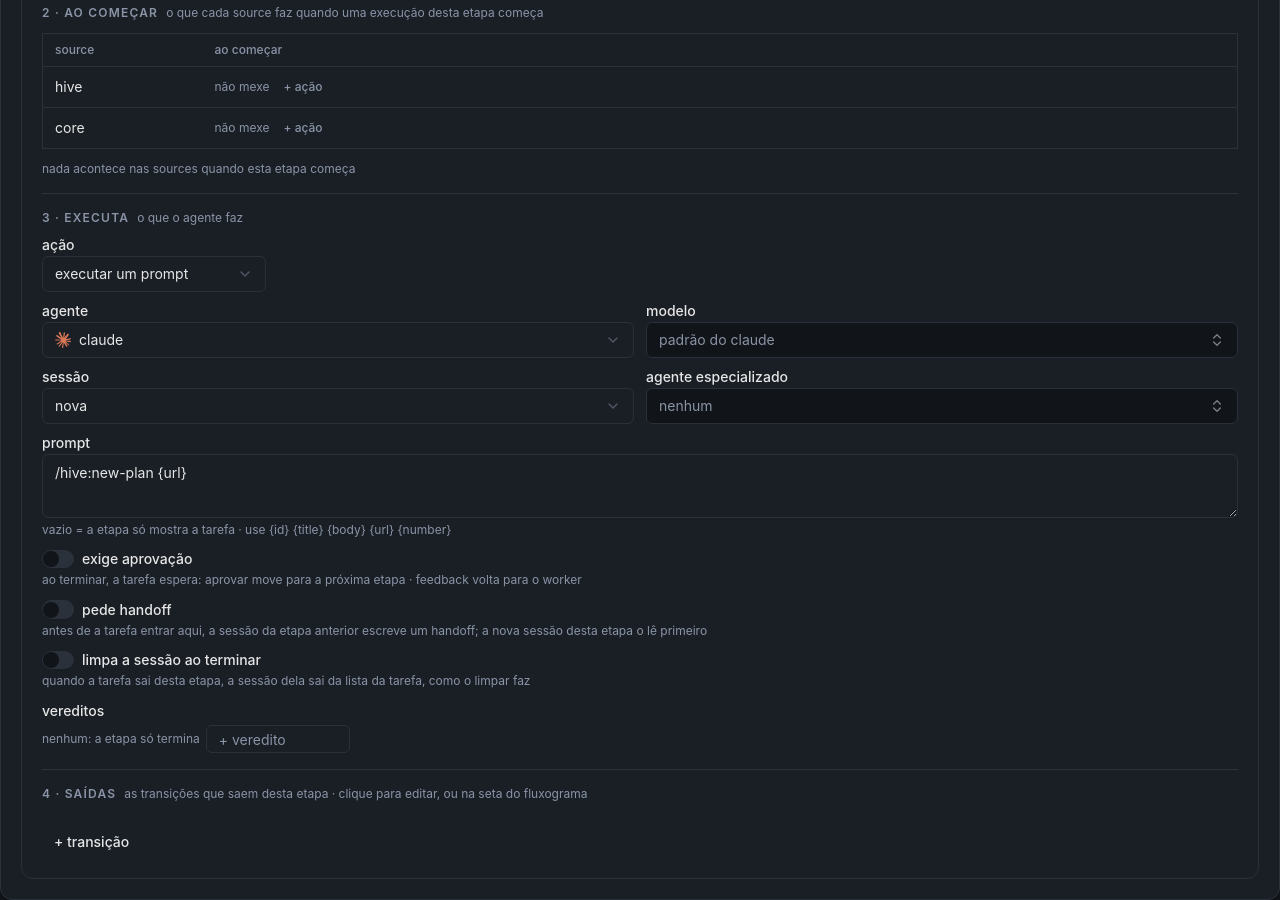
Test: executa: the handoff switch on a prompt stage, disabled with its own hint while the session continues (#692)
(page scrolled)
Expected: the text "antes de a tarefa entrar aqui, a sessão da etapa anterior escreve um handoff; a nova sessão desta etapa o lê primeiro" is shown, [42, 623, 707, 638]
Click the switch named "pede handoff" next to "pede handoff" at (58, 610), box [42, 600, 74, 619]
(page scrolled)
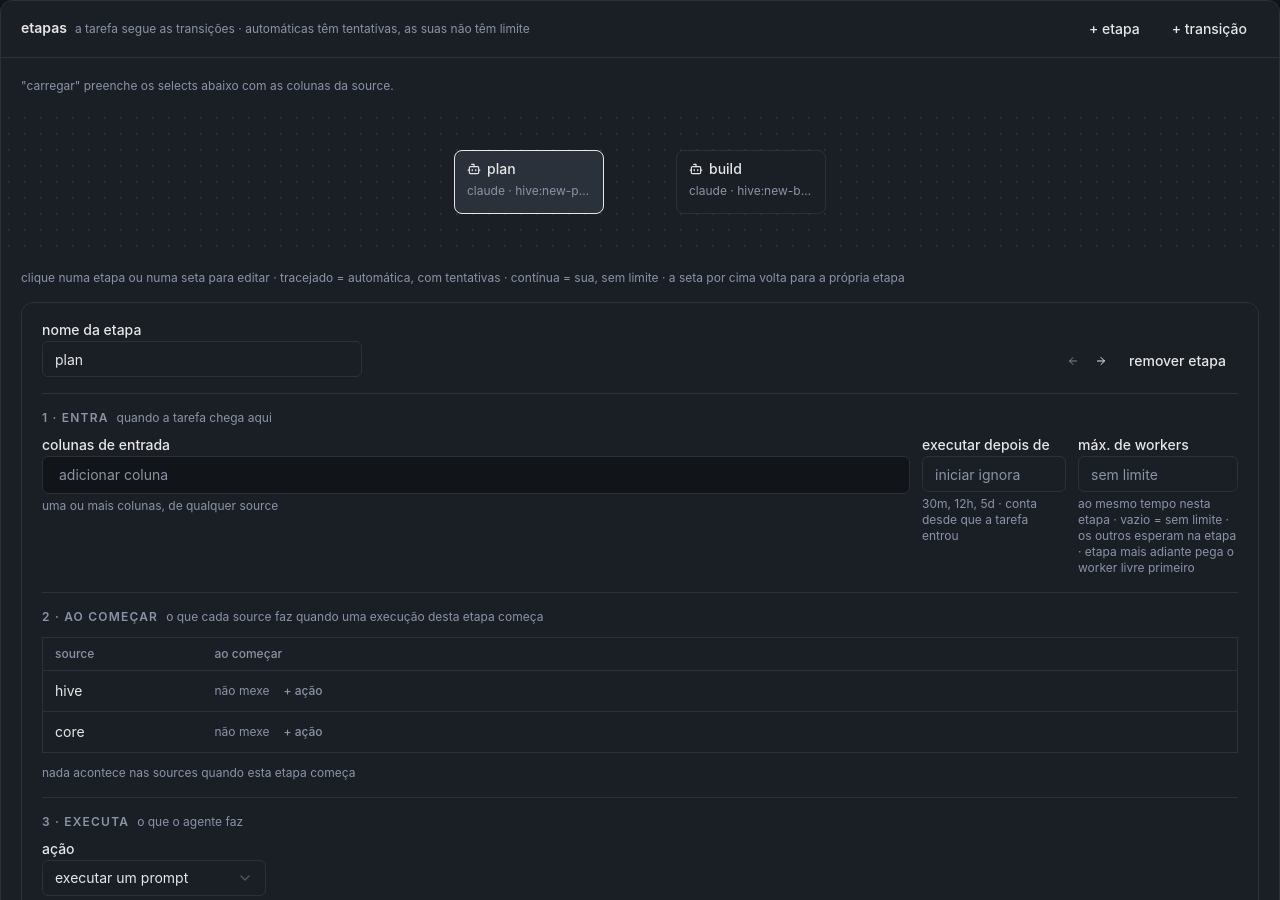
Click the button "build claude · hive:new-build" at (751, 182), box [676, 150, 826, 214]
(page scrolled)
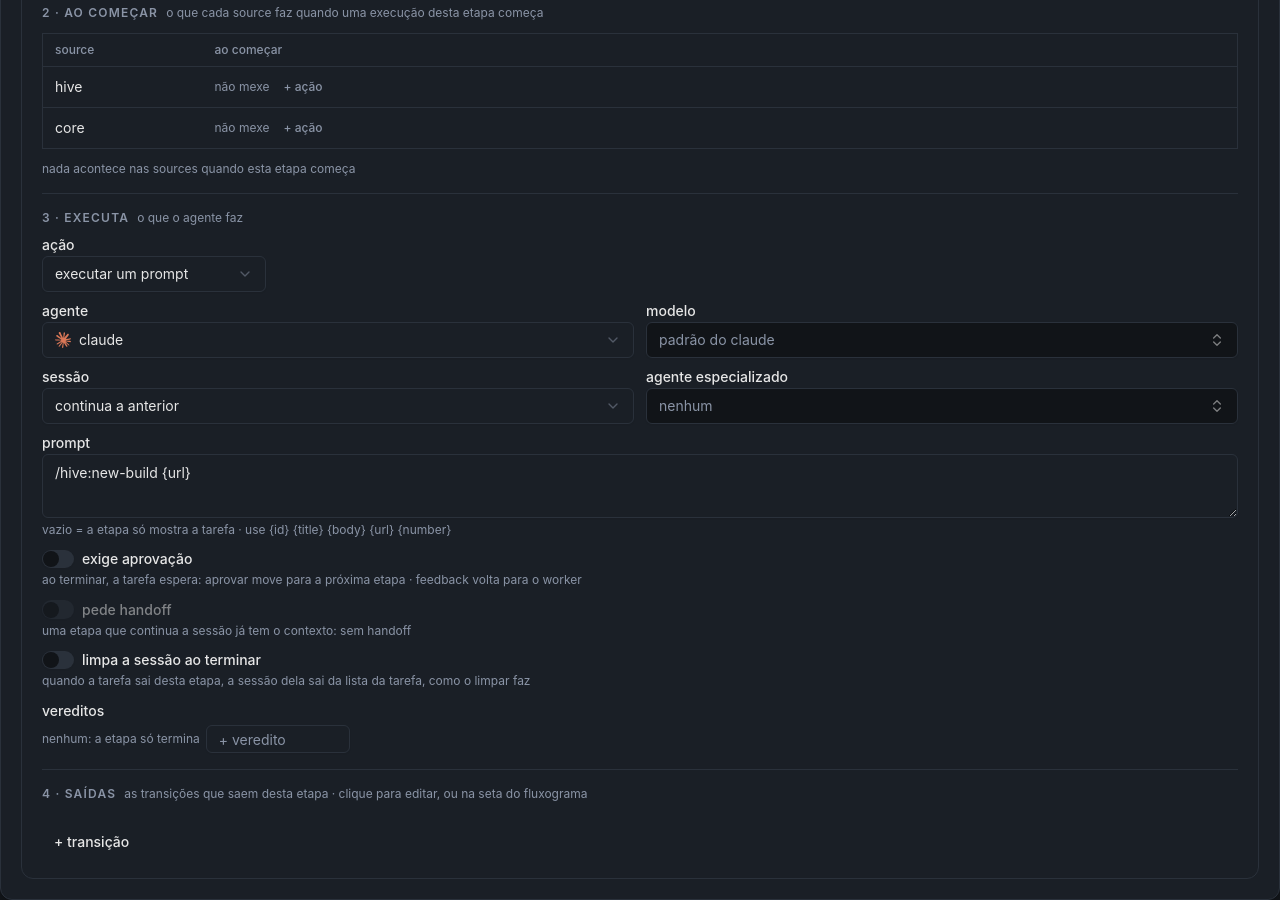
Now the text "uma etapa que continua a sessão já tem o contexto: sem handoff" is shown, box [42, 623, 411, 638]
